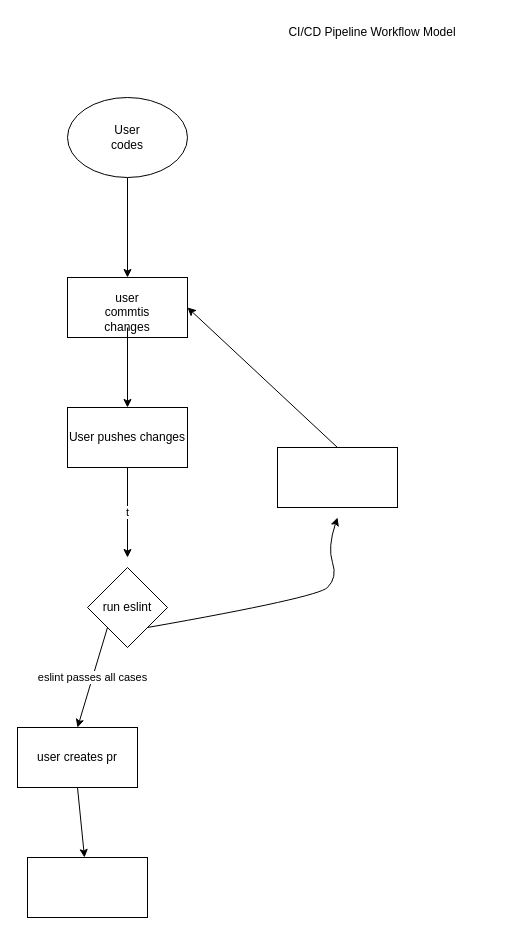
The diagram is 505 pixels wide and 935 high, and some of its shapes have lost their labels. Here are the shapes that lost their labels. From the top down, the box of each, then its label:
(276, 446, 398, 508): user fixes eslint errors
(26, 856, 148, 918): pr review/merge
